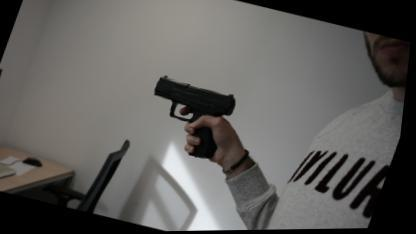pistol: (136, 72, 244, 162)
